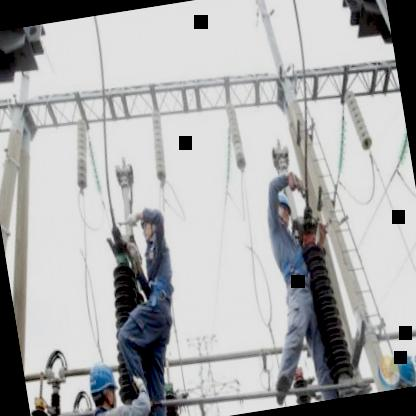helmet: (84, 356, 124, 414), (380, 350, 416, 390), (268, 185, 294, 228)
